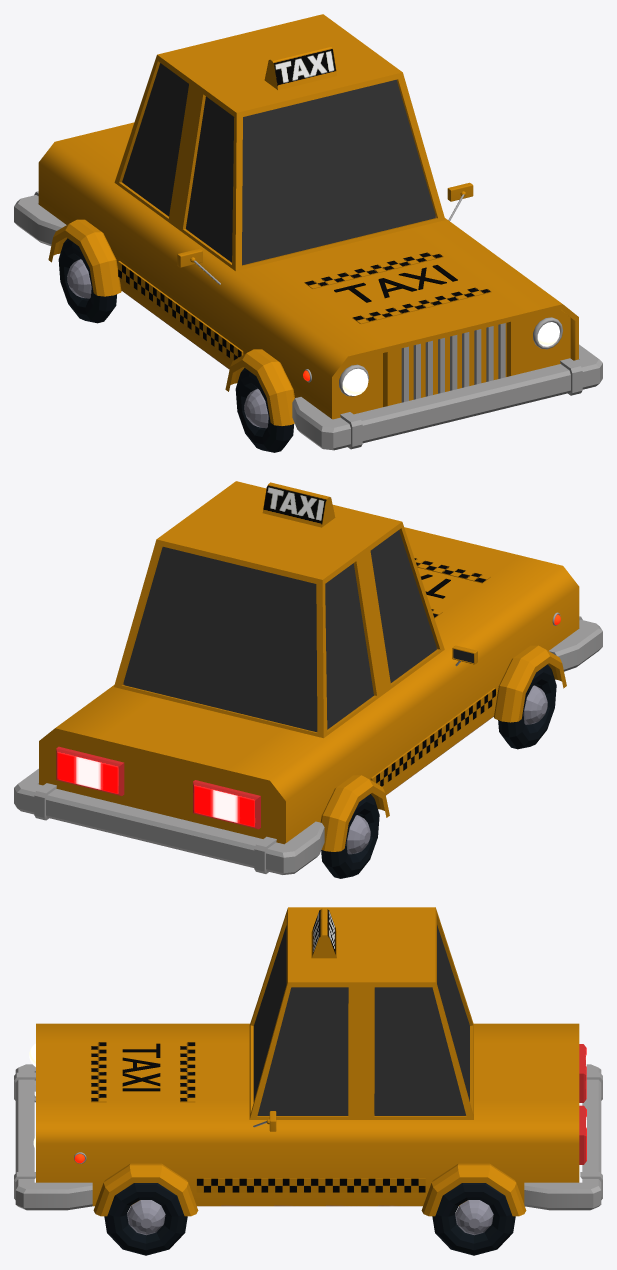
Rendered from car3.glb.
The picture shows the model from 3 angles, top to bottom: view 1: azimuth 30°, elevation 25°; view 2: azimuth 150°, elevation 25°; view 3: azimuth 270°, elevation 25°; orthographic projection. The views are drawn at different scales.
Parts seen in each view (by area): view 1: polySurface13, polySurface54, polySurface21, polySurface16, polySurface14, polySurface33, polySurface20, polySurface11, polySurface15, polySurface46, polySurface44, polySurface45 (+2 smaller); view 2: polySurface13, polySurface54, polySurface46, polySurface14, polySurface16, polySurface48, polySurface47, polySurface33, polySurface20, polySurface15, polySurface11, polySurface21 (+3 smaller); view 3: polySurface54, polySurface13, polySurface21, polySurface46, polySurface35, polySurface42, polySurface19, polySurface43, polySurface55, polySurface33, polySurface41, polySurface34 (+3 smaller).
Boxes of the visible parts, bbox=[...] form: polySurface13: bbox=[114, 14, 445, 271]; polySurface54: bbox=[38, 122, 578, 419]; polySurface21: bbox=[292, 344, 602, 450]; polySurface16: bbox=[48, 219, 121, 296]; polySurface14: bbox=[225, 349, 294, 425]; polySurface33: bbox=[264, 45, 337, 90]; polySurface20: bbox=[118, 261, 243, 360]; polySurface11: bbox=[235, 368, 294, 452]; polySurface15: bbox=[58, 238, 116, 323]; polySurface46: bbox=[14, 191, 66, 245]; polySurface44: bbox=[352, 285, 491, 324]; polySurface45: bbox=[304, 250, 443, 288]; polySurface13: bbox=[114, 481, 444, 738]; polySurface54: bbox=[39, 527, 579, 844]; polySurface46: bbox=[14, 768, 324, 874]; polySurface14: bbox=[494, 645, 566, 722]; polySurface16: bbox=[320, 775, 389, 851]; polySurface48: bbox=[56, 746, 124, 795]; polySurface47: bbox=[193, 780, 260, 829]; polySurface33: bbox=[262, 482, 335, 527]; polySurface20: bbox=[370, 688, 495, 786]; polySurface15: bbox=[321, 794, 379, 878]; polySurface11: bbox=[498, 664, 556, 749]; polySurface21: bbox=[549, 616, 602, 671]; polySurface54: bbox=[36, 1023, 579, 1206]; polySurface13: bbox=[249, 907, 473, 1119]; polySurface21: bbox=[14, 1064, 92, 1210]; polySurface46: bbox=[524, 1064, 602, 1210]; polySurface35: bbox=[104, 1183, 187, 1255]; polySurface42: bbox=[432, 1183, 515, 1255]; polySurface19: bbox=[196, 1178, 425, 1192]; polySurface43: bbox=[421, 1163, 526, 1216]; polySurface55: bbox=[93, 1163, 198, 1216]; polySurface33: bbox=[311, 908, 336, 958]; polySurface41: bbox=[455, 1200, 493, 1235]; polySurface34: bbox=[127, 1200, 165, 1235].
Size of the model in its own units: 46.99 by 43.85 by 85.99.
Materials: 1 (1 with a texture image).
